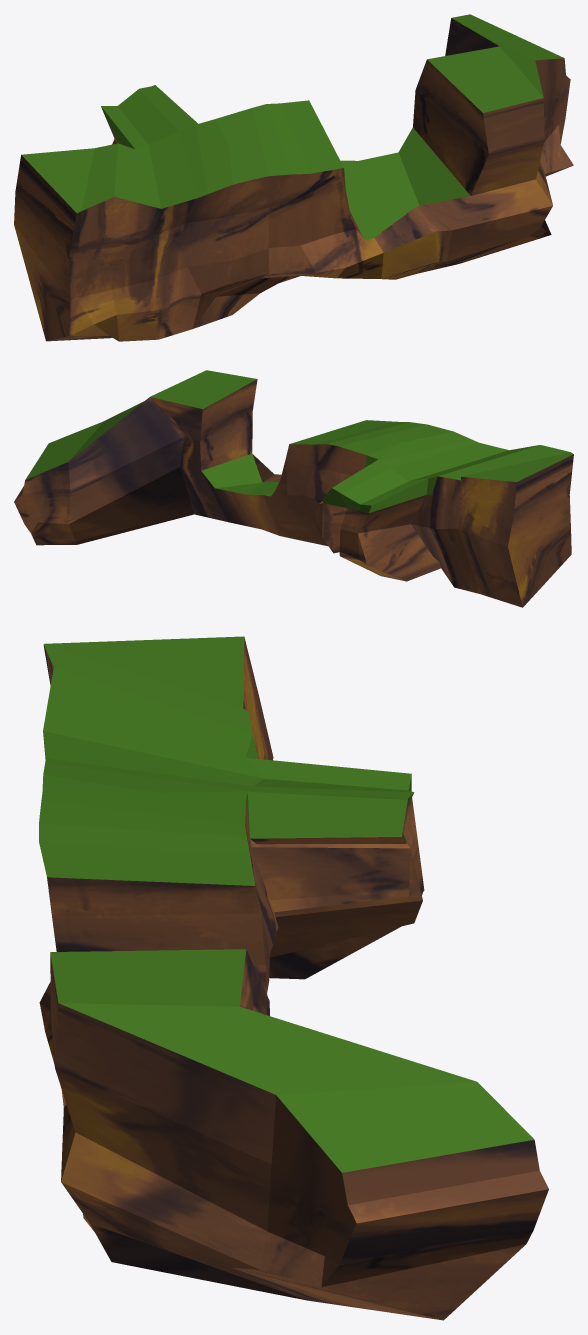
File: sali53.obj
The picture shows the model from 3 angles, top to bottom: view 1: azimuth 30°, elevation 25°; view 2: azimuth 150°, elevation 25°; view 3: azimuth 270°, elevation 25°; orthographic projection. The views are drawn at different scales.
Parts seen in each view (by area): view 1: Plane.019_Plane.009; view 2: Plane.019_Plane.009; view 3: Plane.019_Plane.009.
Boxes of the visible parts, x1=… form: Plane.019_Plane.009: x1=14, y1=14, x2=573, y2=341; Plane.019_Plane.009: x1=14, y1=370, x2=573, y2=607; Plane.019_Plane.009: x1=39, y1=636, x2=548, y2=1320.
Size of the model in its own units: 210 by 61.15 by 101.
Materials: 1 (1 with a texture image).
